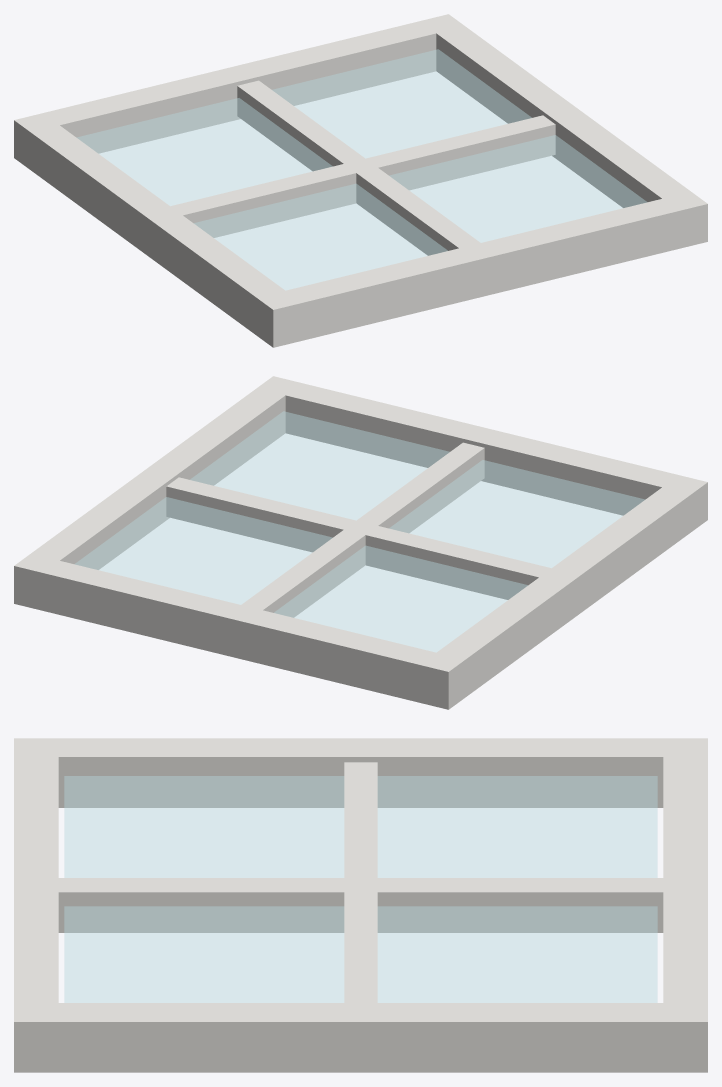
The model's file is window_unit.glb.
The picture shows the model from 3 angles, top to bottom: view 1: azimuth 30°, elevation 25°; view 2: azimuth 150°, elevation 25°; view 3: azimuth 270°, elevation 25°; orthographic projection. The views are drawn at different scales.
Parts seen in each view (by area): view 1: world; view 2: world; view 3: world.
Boxes of the visible parts, box(x1,y1,x2,y2) form: world: box(14, 14, 707, 347); world: box(14, 376, 707, 709); world: box(14, 738, 707, 1072).
Size of the model in its own units: 1.2 by 0.1 by 1.24.
